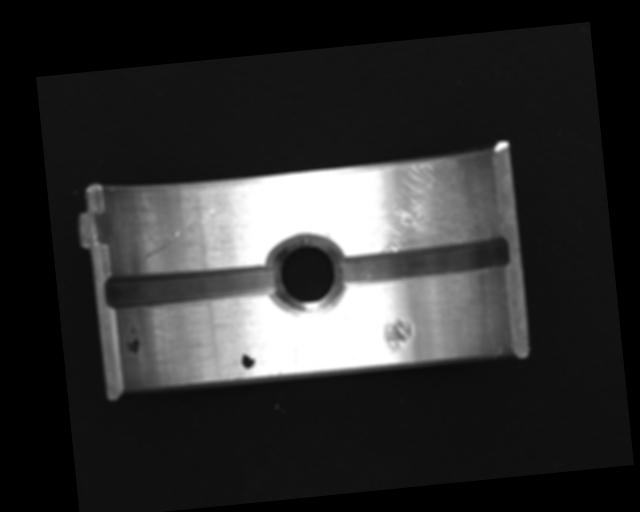blot: (123, 323, 141, 356), (240, 348, 256, 370)
bruise: (382, 316, 415, 356)
gap: (102, 260, 279, 315), (331, 234, 511, 288)
hole: (261, 228, 348, 320)
nick: (138, 207, 222, 260)
scratch: (331, 153, 492, 257)
